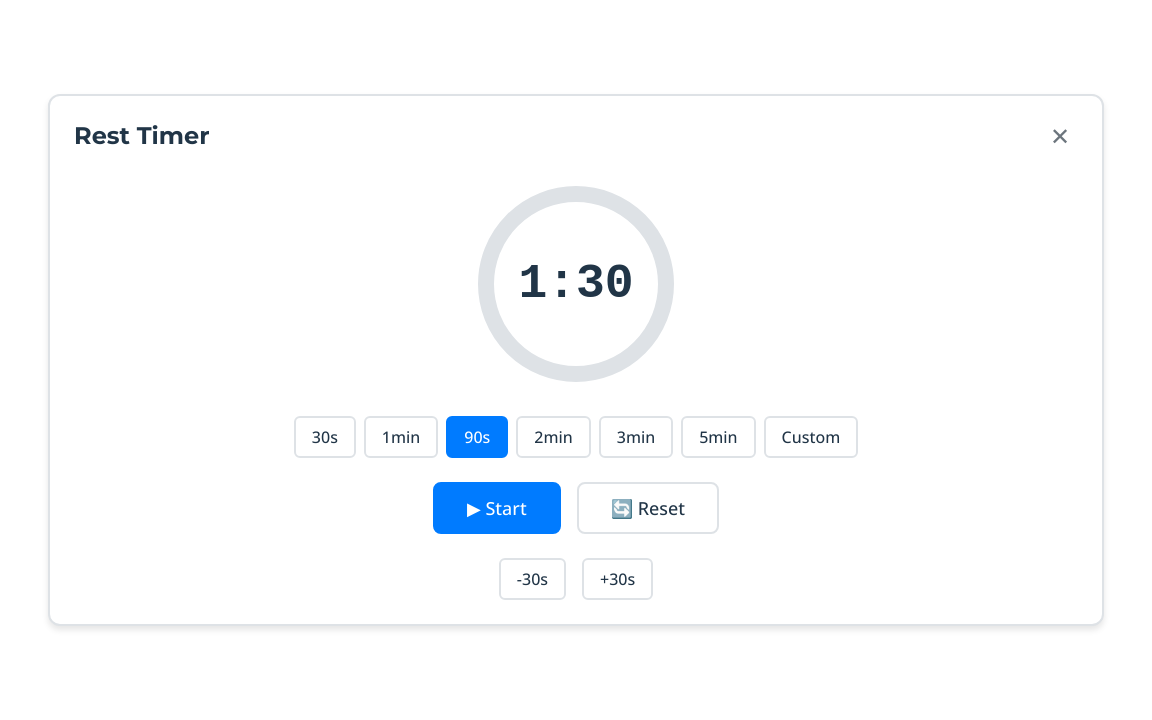
Test: RestTimer › resets timer to selected preset
Start timer and let it run
What coordinates should you click on to do the following:
click the button with aria-label "Start timer"
I would click on:
 (497, 508)
Its box is x1=433 y1=482 x2=561 y2=534.
Wait 10000 ms
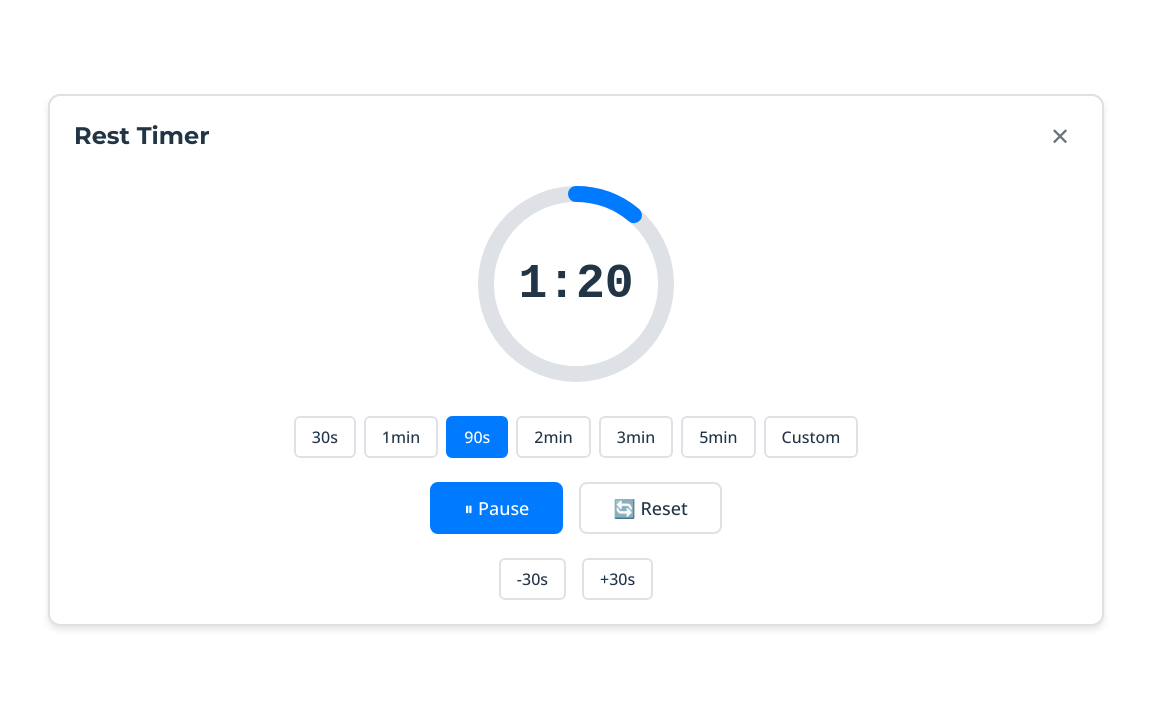
Expected: the text "1:20" is shown, x1=518 y1=246 x2=634 y2=322
Reset timer
What coordinates should you click on to do the following:
click the button with aria-label "Reset timer"
I would click on:
 (650, 508)
Its box is x1=579 y1=482 x2=722 y2=534.
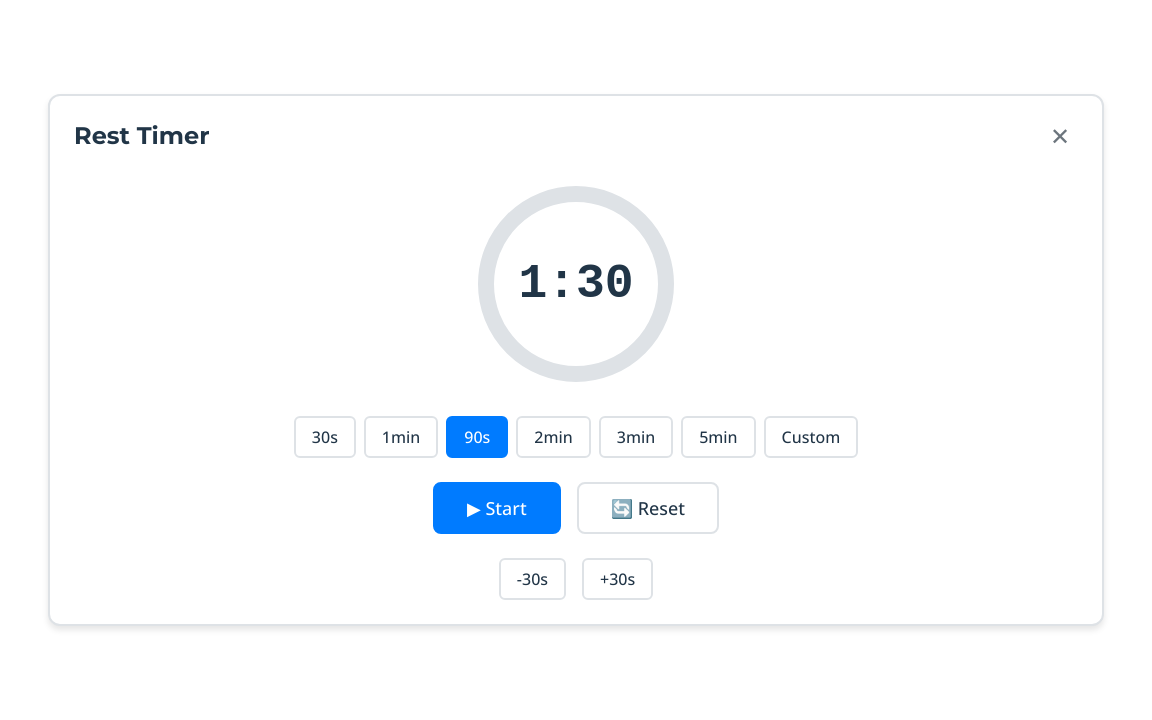
Expected: the text "1:30" is shown, x1=518 y1=246 x2=634 y2=322
